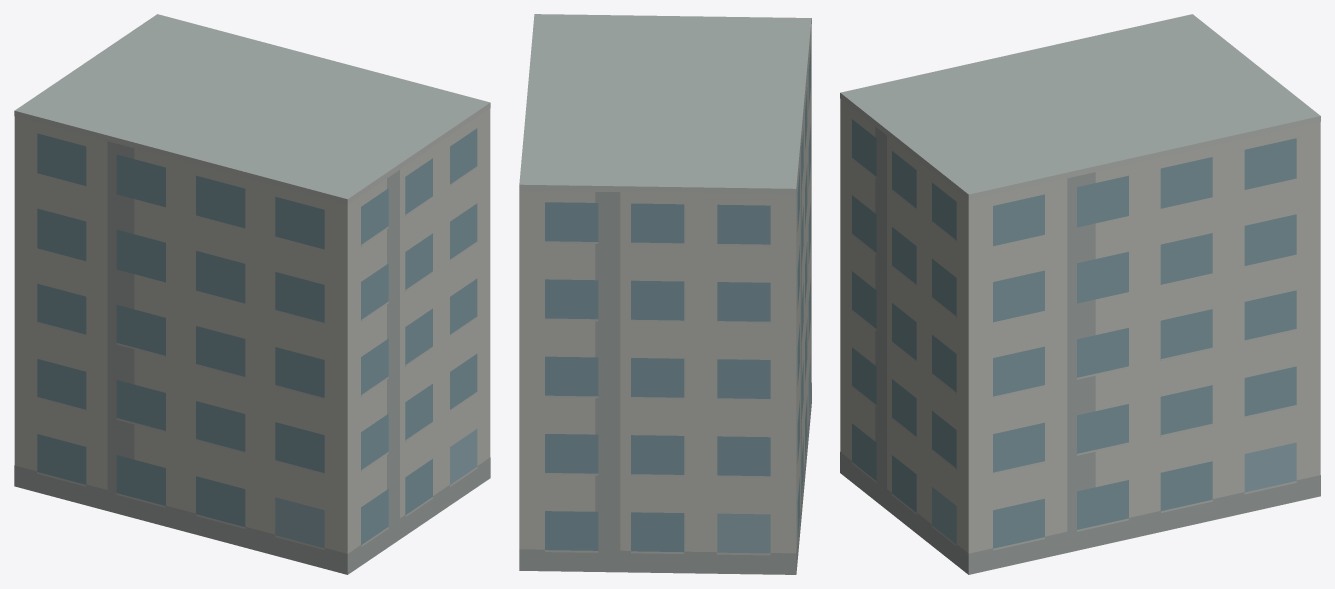
Rendered from survey-upis-32992407.glb.
The picture shows the model from 3 angles, left to right: view 1: azimuth 30°, elevation 25°; view 2: azimuth 150°, elevation 25°; view 3: azimuth 270°, elevation 25°; orthographic projection. The views are drawn at different scales.
Visible parts, largest first — view 1: survey-upis-32992407.tmp; view 2: survey-upis-32992407.tmp; view 3: survey-upis-32992407.tmp.
Part boxes in pixels (x1=…): survey-upis-32992407.tmp: x1=14, y1=14, x2=490, y2=574; survey-upis-32992407.tmp: x1=519, y1=14, x2=811, y2=574; survey-upis-32992407.tmp: x1=840, y1=14, x2=1320, y2=574.
Size of the model in its own units: 16.09 by 15.8 by 18.1.
